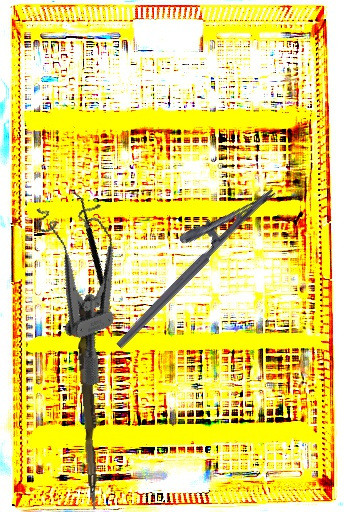Needle Holder: (93, 166, 278, 350)
Pusher: (72, 301, 106, 510)
Spatula Surgical: (27, 189, 160, 320)
Speculum: (20, 187, 160, 388)
